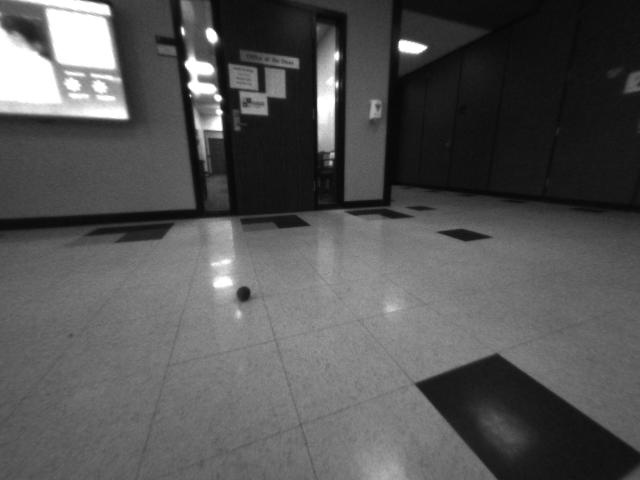dogtoy: (231, 280, 257, 306)
